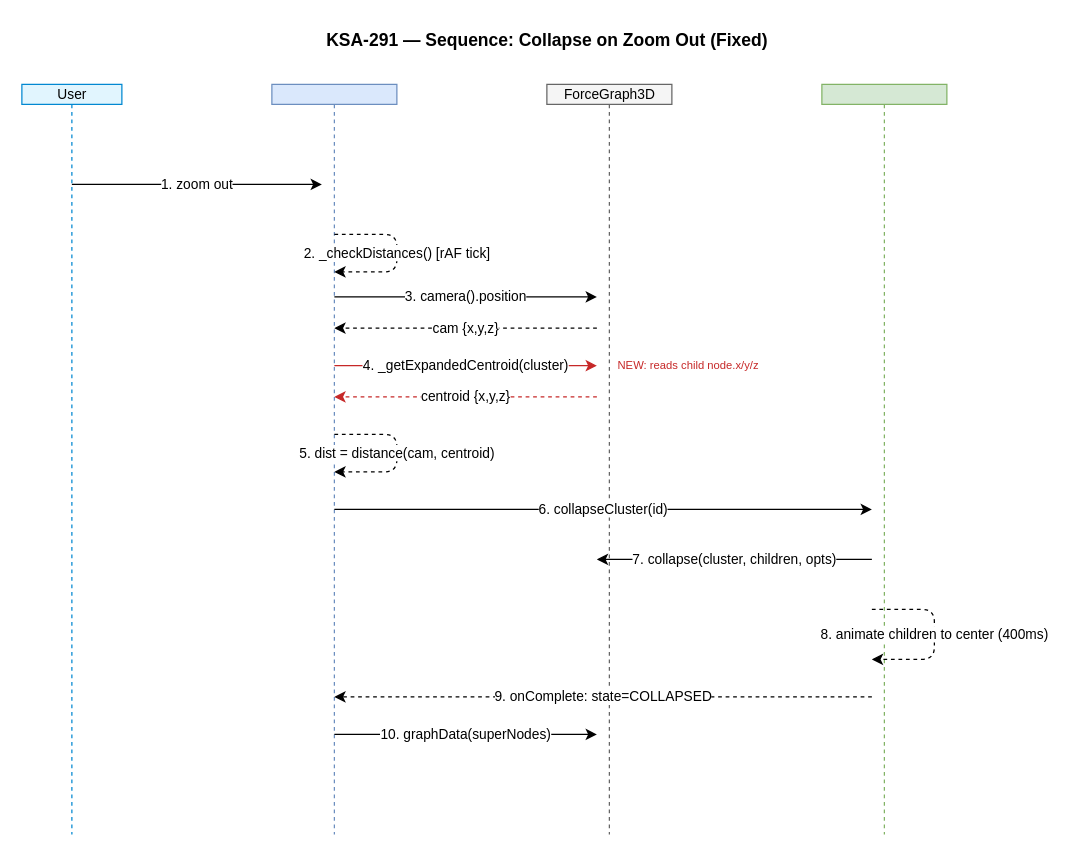
Some shapes in this 1070 by 856 pixel diagram are drawn without their labels. The box of each missing label's shape, as (x1, y1, x2, y2) in pixels:
LODAnimation: (821, 83, 947, 834)
LODManager: (271, 83, 397, 834)
